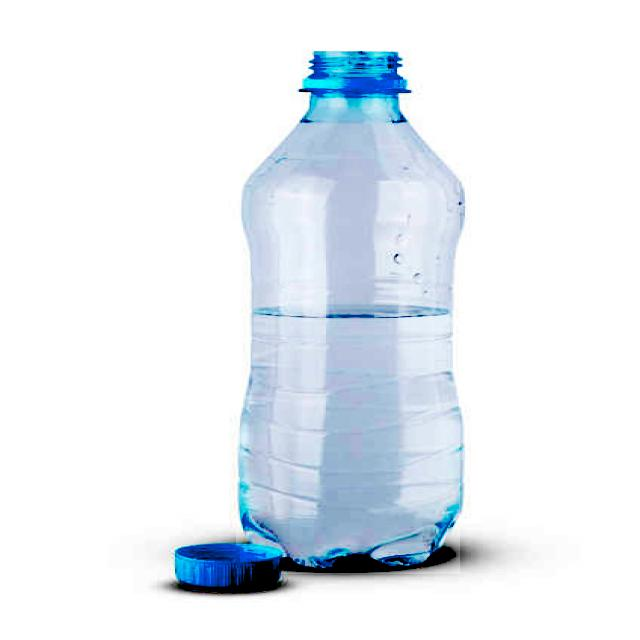half-bottle: (236, 45, 460, 574)
